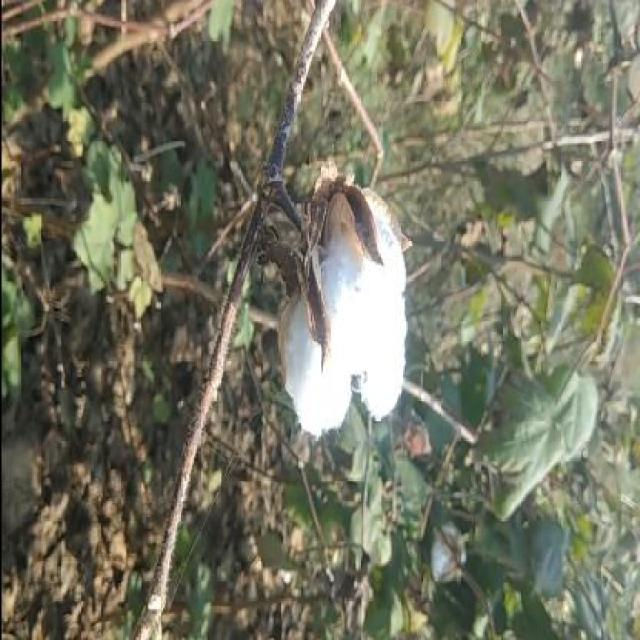cotton_ready: (203, 140, 446, 446)
